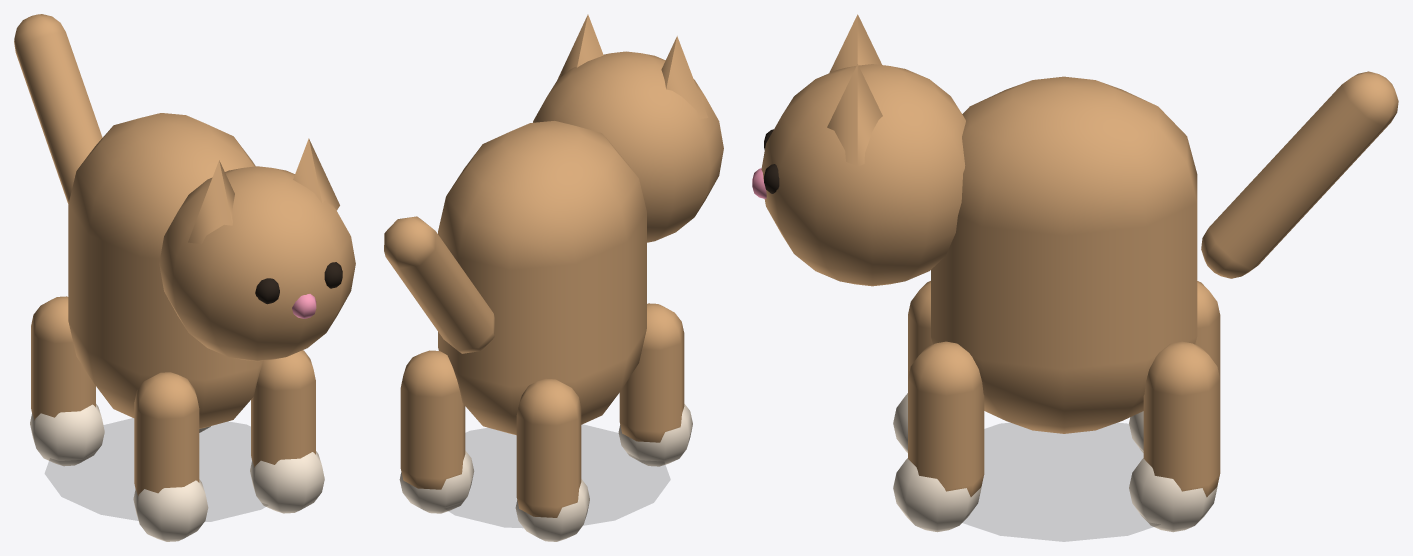
File: cat.glb
The picture shows the model from 3 angles, left to right: view 1: azimuth 30°, elevation 25°; view 2: azimuth 150°, elevation 25°; view 3: azimuth 270°, elevation 25°; orthographic projection. The views are drawn at different scales.
Visible parts, largest first — view 1: object 5, Head, Leg_1, object 8, Leg_3, Leg_0, Tail; view 2: object 5, Head, object 8, Leg_0, Leg_2, Leg_1, Tail; view 3: object 5, Head, object 8, Tail, Leg_2, Leg_3, Leg_1, Leg_0.
Boxes of the visible parts, x1=… form: object 5: x1=68, y1=113, x2=263, y2=428; Head: x1=159, y1=138, x2=355, y2=361; Leg_1: x1=133, y1=372, x2=208, y2=541; object 8: x1=45, y1=418, x2=267, y2=521; Leg_3: x1=250, y1=350, x2=324, y2=513; Leg_0: x1=30, y1=296, x2=104, y2=466; Tail: x1=14, y1=14, x2=102, y2=203; object 5: x1=438, y1=121, x2=646, y2=435; Head: x1=533, y1=14, x2=723, y2=242; object 8: x1=446, y1=425, x2=669, y2=527; Leg_0: x1=515, y1=378, x2=589, y2=541; Leg_2: x1=399, y1=350, x2=474, y2=513; Leg_1: x1=618, y1=303, x2=692, y2=466; Tail: x1=384, y1=216, x2=495, y2=353; object 5: x1=931, y1=76, x2=1197, y2=433; Head: x1=752, y1=14, x2=965, y2=286; object 8: x1=962, y1=423, x2=1158, y2=541; Tail: x1=1201, y1=71, x2=1398, y2=278; Leg_2: x1=1129, y1=341, x2=1220, y2=532; Leg_3: x1=893, y1=341, x2=984, y2=532; Leg_1: x1=893, y1=281, x2=932, y2=452; Leg_0: x1=1129, y1=281, x2=1220, y2=452.
Size of the model in its own units: 10 by 17.1 by 21.93.
